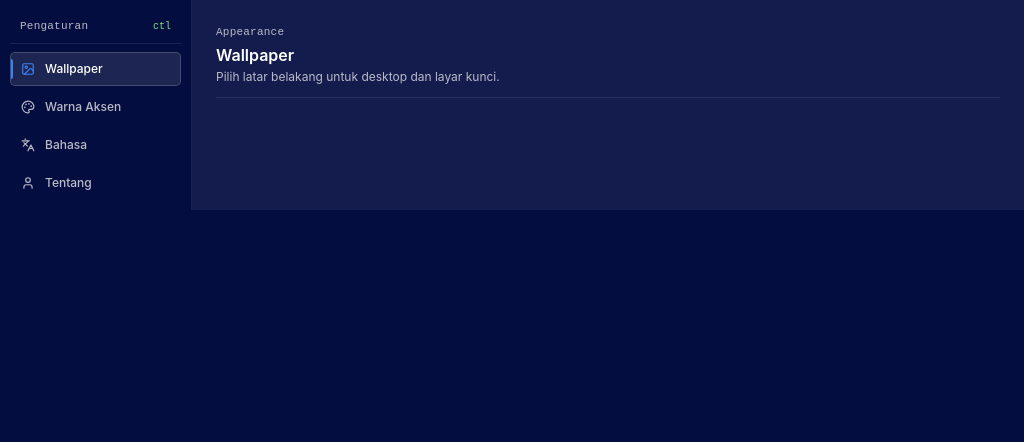
Scenario: SettingsApp Component › displays developer profile details in About section
Navigate to about
Click the button with test id "settings-nav-about": click(96, 182) [10, 166, 181, 200]
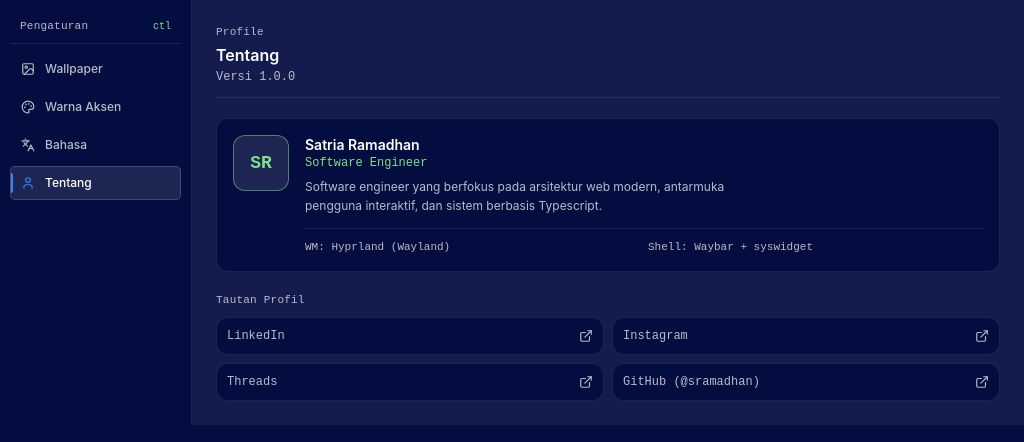
Now the element with test id "settings-section-about" is shown
Now the heading "Satria Ramadhan" is shown, box [305, 136, 420, 152]
Now the text "Software Engineer" is shown, box [305, 156, 427, 170]
